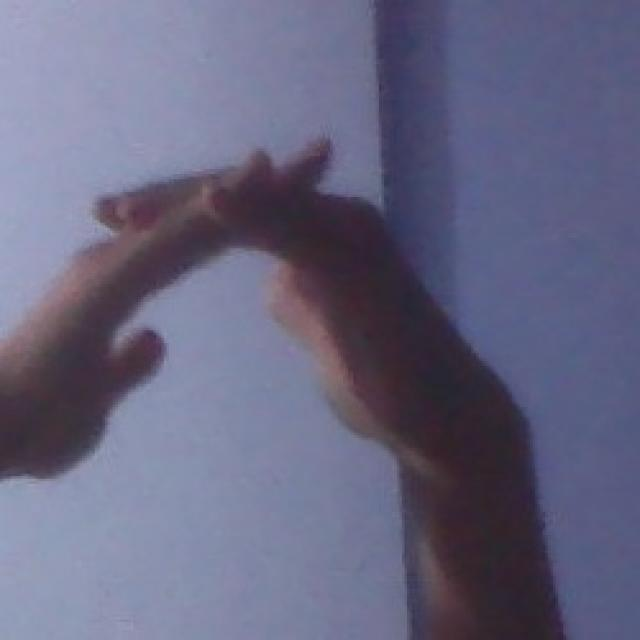Alphabet-W: (21, 132, 508, 518)
